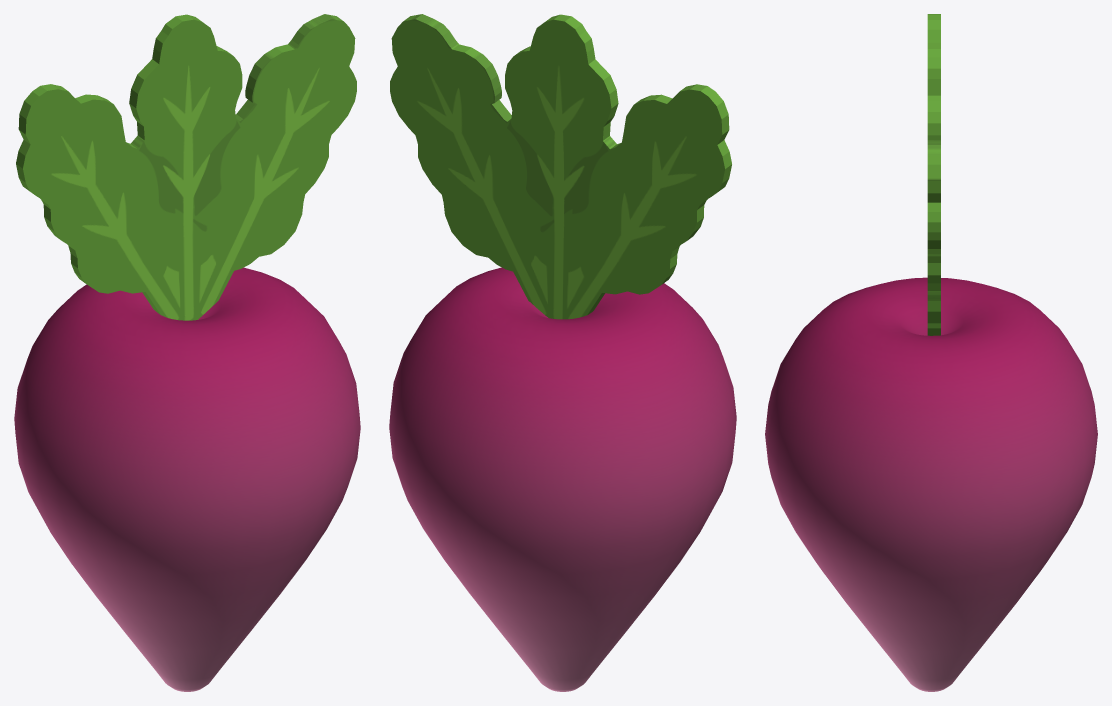
File: Radish.fbx
3 renders of one model, left to right at view 1: azimuth 30°, elevation 25°; view 2: azimuth 150°, elevation 25°; view 3: azimuth 270°, elevation 25°, orthographic. The views are drawn at different scales.
Parts seen in each view (by area): view 1: Radish; view 2: Radish; view 3: Radish.
Part boxes in pixels (left/top/right/bottom): Radish: left=14, top=14, right=360, bottom=691; Radish: left=389, top=14, right=736, bottom=691; Radish: left=765, top=14, right=1097, bottom=691.
Bounding box in the file's own units: 8.68 × 16.6 × 7.81.
